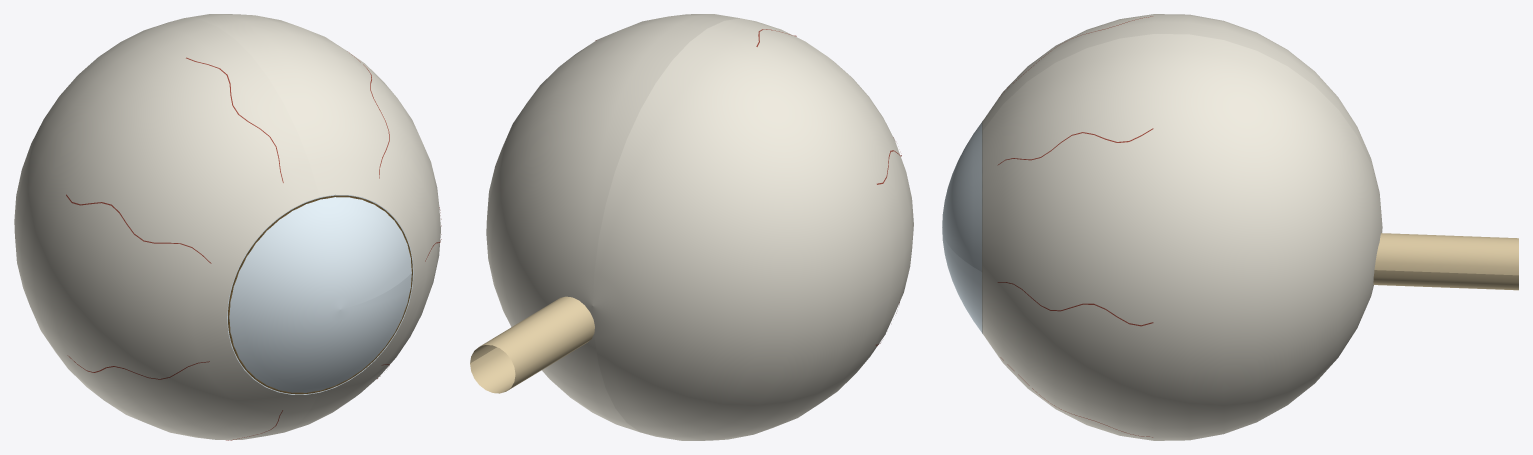
The model's file is lab-eye-normal.glb.
3 renders of one model, left to right at view 1: azimuth 30°, elevation 25°; view 2: azimuth 150°, elevation 25°; view 3: azimuth 270°, elevation 25°, orthographic.
Parts seen in each view (by area): view 1: part-sclera-back, part-cornea-dome, part-sclera-front, part-iris, part-sclera-vessels, part-cornea-rim; view 2: part-sclera-back, part-sclera-front, part-optic-nerve; view 3: part-sclera-front, part-optic-nerve, part-sclera-back, part-cornea-dome, part-sclera-vessels.
Part boxes in pixels (bbox=[...]): part-sclera-back: bbox=[14, 18, 319, 439]; part-cornea-dome: bbox=[229, 197, 411, 392]; part-sclera-front: bbox=[184, 14, 440, 432]; part-iris: bbox=[228, 195, 412, 394]; part-sclera-vessels: bbox=[66, 52, 441, 440]; part-cornea-rim: bbox=[227, 194, 413, 394]; part-sclera-back: bbox=[593, 18, 913, 440]; part-sclera-front: bbox=[486, 14, 739, 432]; part-optic-nerve: bbox=[470, 296, 594, 393]; part-sclera-front: bbox=[983, 34, 1382, 440]; part-optic-nerve: bbox=[1373, 233, 1518, 290]; part-sclera-back: bbox=[983, 14, 1381, 218]; part-cornea-dome: bbox=[942, 121, 982, 333]; part-sclera-vessels: bbox=[997, 16, 1153, 437].
Bounding box in the file's own units: 21.97 × 21.95 × 29.63.
